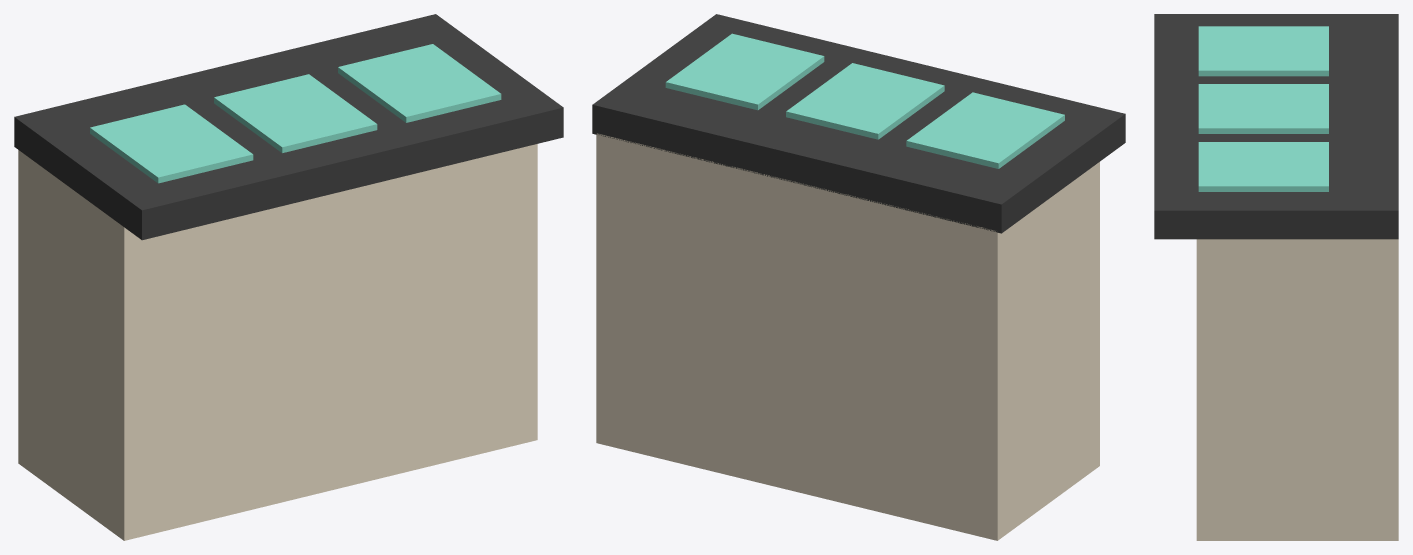
3 renders of one model, left to right at view 1: azimuth 30°, elevation 25°; view 2: azimuth 150°, elevation 25°; view 3: azimuth 270°, elevation 25°, orthographic. The views are drawn at different scales.
Parts seen in each view (by area): view 1: Console, Panel, Readout, Readout.001, Readout.002; view 2: Console, Panel, Readout.002, Readout.001, Readout; view 3: Console, Panel, Readout, Readout.001, Readout.002.
Part boxes in pixels (box(x1,y1,x2,y2)): Console: box(18, 144, 537, 540); Panel: box(14, 14, 563, 240); Readout: box(90, 104, 253, 183); Readout.001: box(214, 74, 377, 153); Readout.002: box(338, 44, 501, 122); Console: box(596, 133, 1099, 540); Panel: box(592, 14, 1125, 233); Readout.002: box(665, 33, 824, 110); Readout.001: box(786, 63, 944, 139); Readout: box(906, 92, 1064, 168); Console: box(1196, 239, 1398, 540); Panel: box(1154, 14, 1398, 239); Readout: box(1198, 26, 1328, 76); Readout.001: box(1198, 84, 1328, 133); Readout.002: box(1198, 142, 1328, 191).
Size of the model in its own units: 1.33 by 1.06 by 0.696.
1 material, 1 textured.
